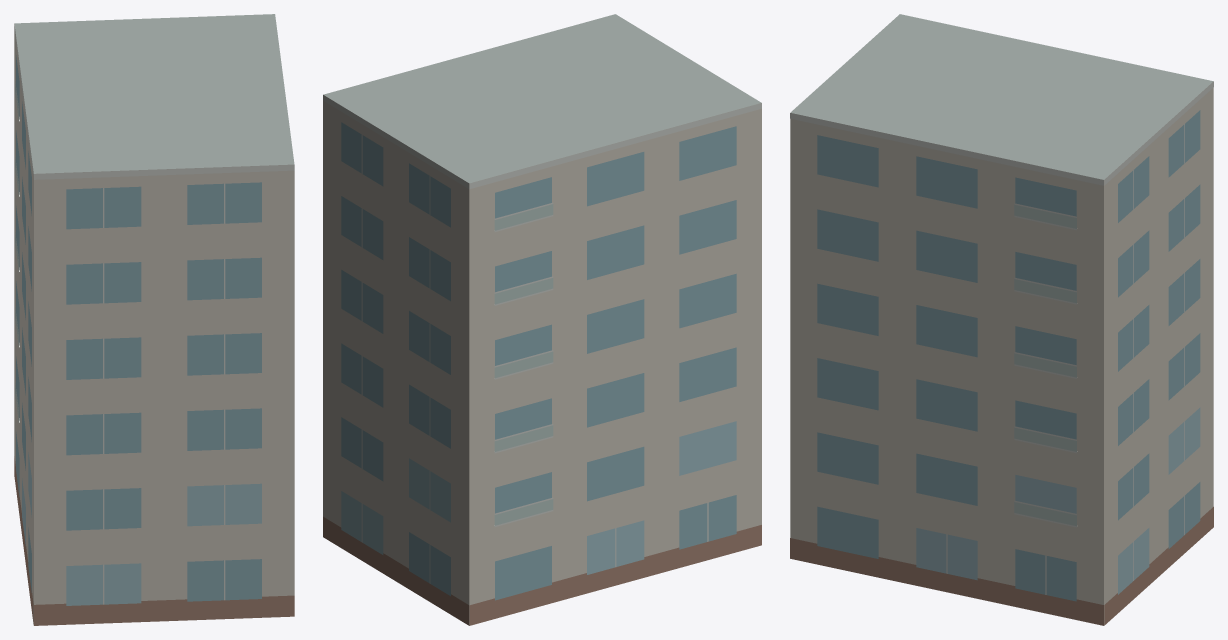
File: survey-upis-32719194.glb
The picture shows the model from 3 angles, left to right: view 1: azimuth 30°, elevation 25°; view 2: azimuth 150°, elevation 25°; view 3: azimuth 270°, elevation 25°; orthographic projection. The views are drawn at different scales.
Visible parts, largest first — view 1: survey-upis-32719194.tmp; view 2: survey-upis-32719194.tmp; view 3: survey-upis-32719194.tmp.
Boxes of the visible parts, x1,y1,x2,y2 form: survey-upis-32719194.tmp: (14,14,294,625); survey-upis-32719194.tmp: (323,14,761,625); survey-upis-32719194.tmp: (790,14,1213,625).
Size of the model in its own units: 14.62 by 18.3 by 15.77.
